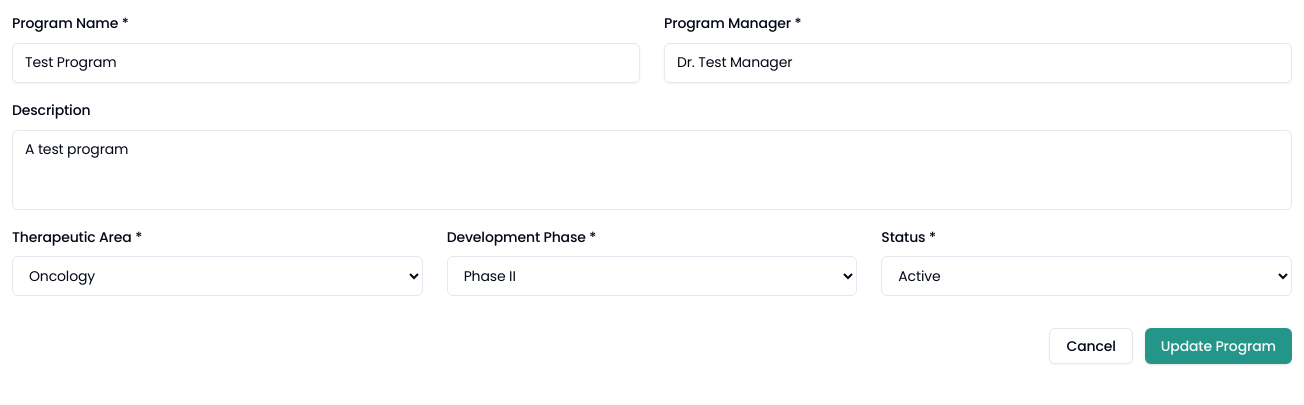
it: EditProgramForm › Form Validation › should show error for empty required fields
The image size is (1304, 405).
Clear the field showing "Test Program" at (326, 63), box 12,43 -> 640,83
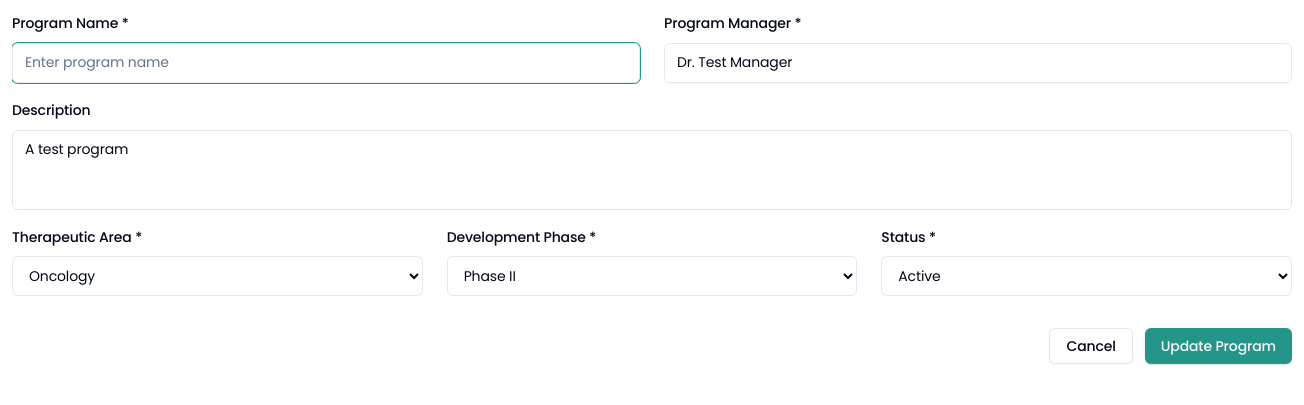
Click the button "Update Program" at (1218, 346), box 1145,328 -> 1292,364
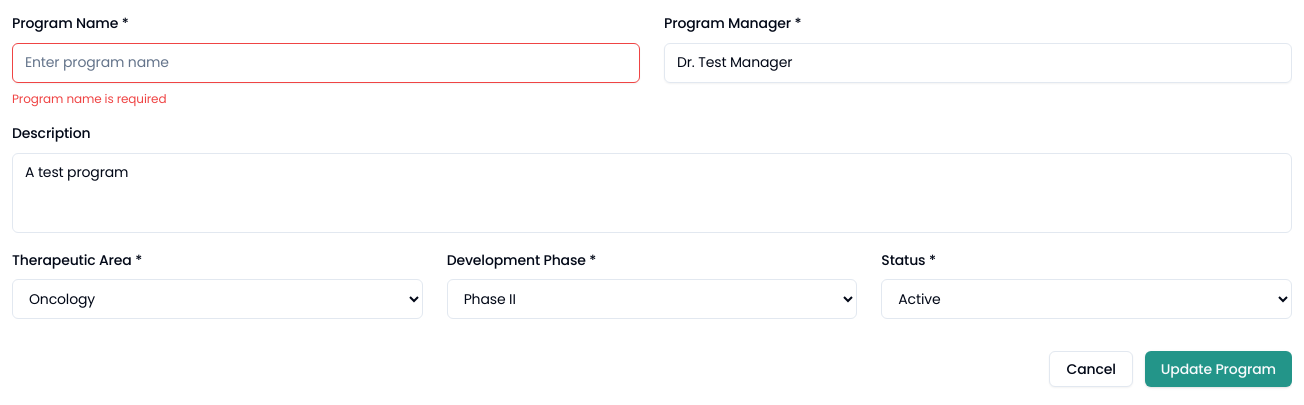
Expected: the text "Program name is required" is shown, 12,90 -> 166,107
